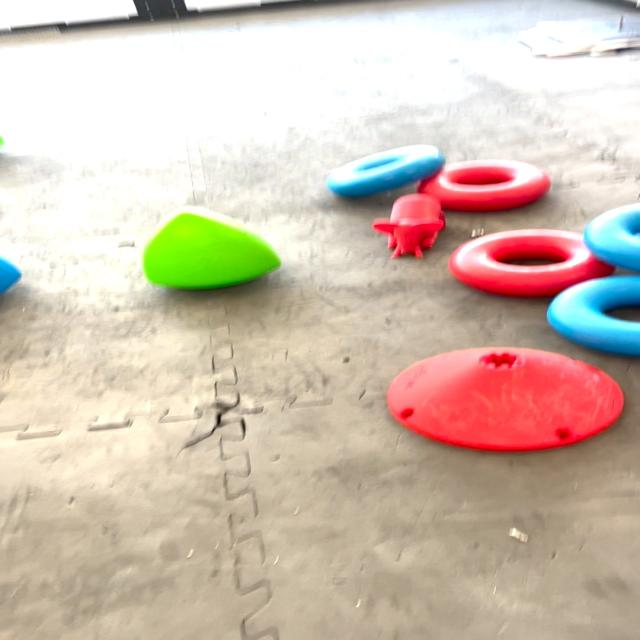Blue-Ring: (550, 204, 640, 357), (547, 276, 640, 356), (327, 145, 444, 198)
Red-Ring: (449, 229, 613, 297), (418, 160, 551, 211)
